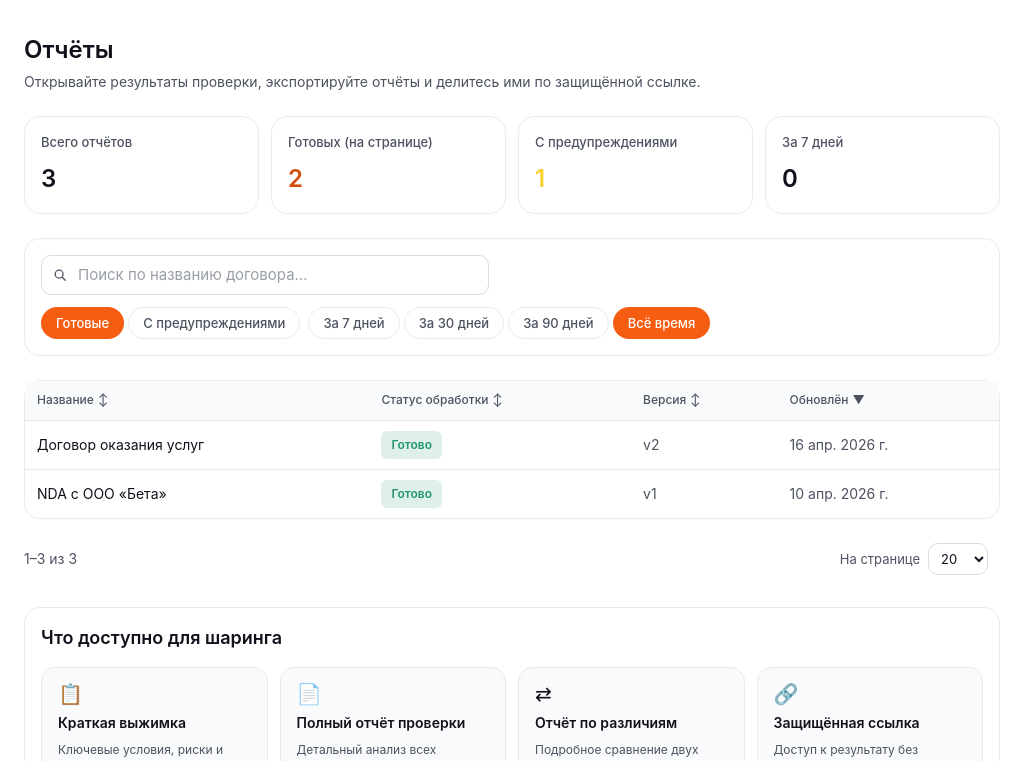
Test: ReportsPage › Feedback — без выбора подсказка; row select c резолвнутым versionId → FeedbackBlock
expect the link "Договор оказания услуг" is shown: met, box [37,436,204,453]
Click the row with test id "reports-table-row-c1" at point(512, 445), box [25,420,999,470]
(page scrolled)
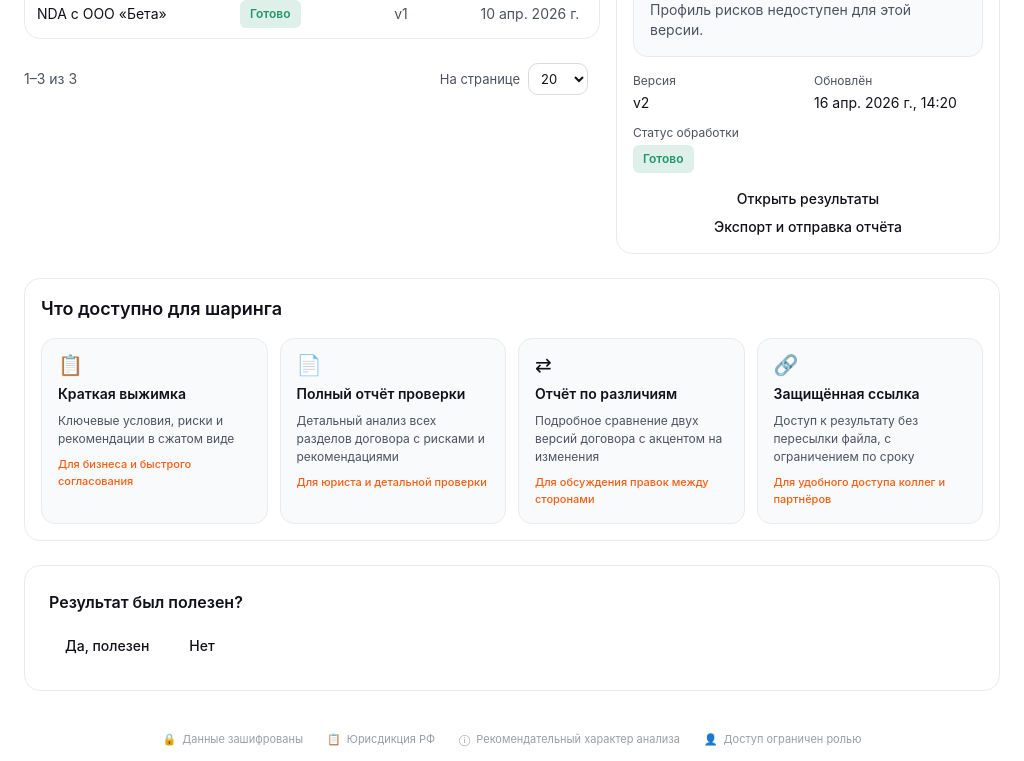
expect the element with test id "feedback-block" is shown: met, box [24,565,1000,691]
